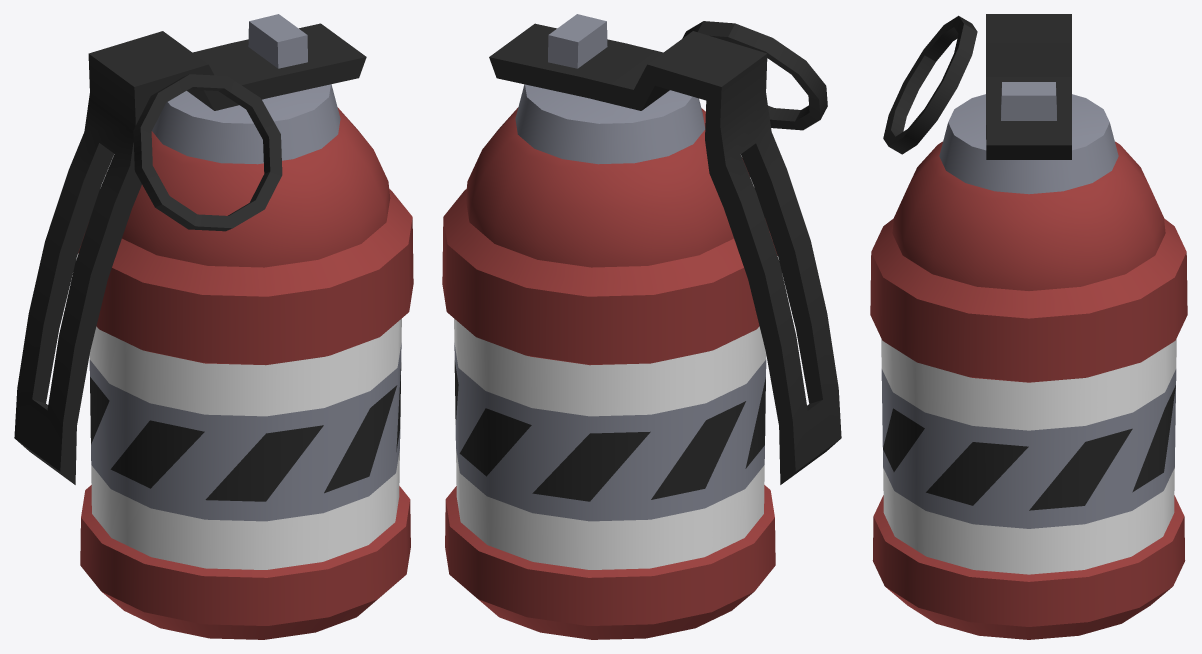
The model's file is quaternius-toon-shooter-game-firegrenade.glb.
3 renders of one model, left to right at view 1: azimuth 30°, elevation 25°; view 2: azimuth 150°, elevation 25°; view 3: azimuth 270°, elevation 25°, orthographic. The views are drawn at different scales.
Visible parts, largest first — view 1: FireGrenade; view 2: FireGrenade; view 3: FireGrenade.
Part boxes in pixels (x1,y1,x2,y2): FireGrenade: (14,14,413,639); FireGrenade: (442,14,841,639); FireGrenade: (870,14,1187,639).
Size of the model in its own units: 0.5695 by 0.85 by 0.4706.
